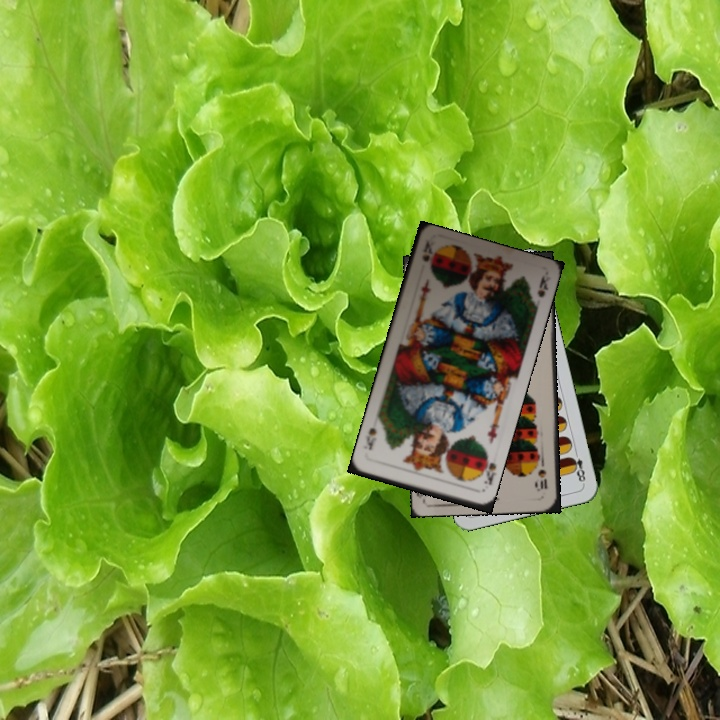E8: (566, 446, 588, 487)
S10: (534, 455, 549, 493)
SK: (476, 452, 499, 488), (418, 239, 436, 264)
